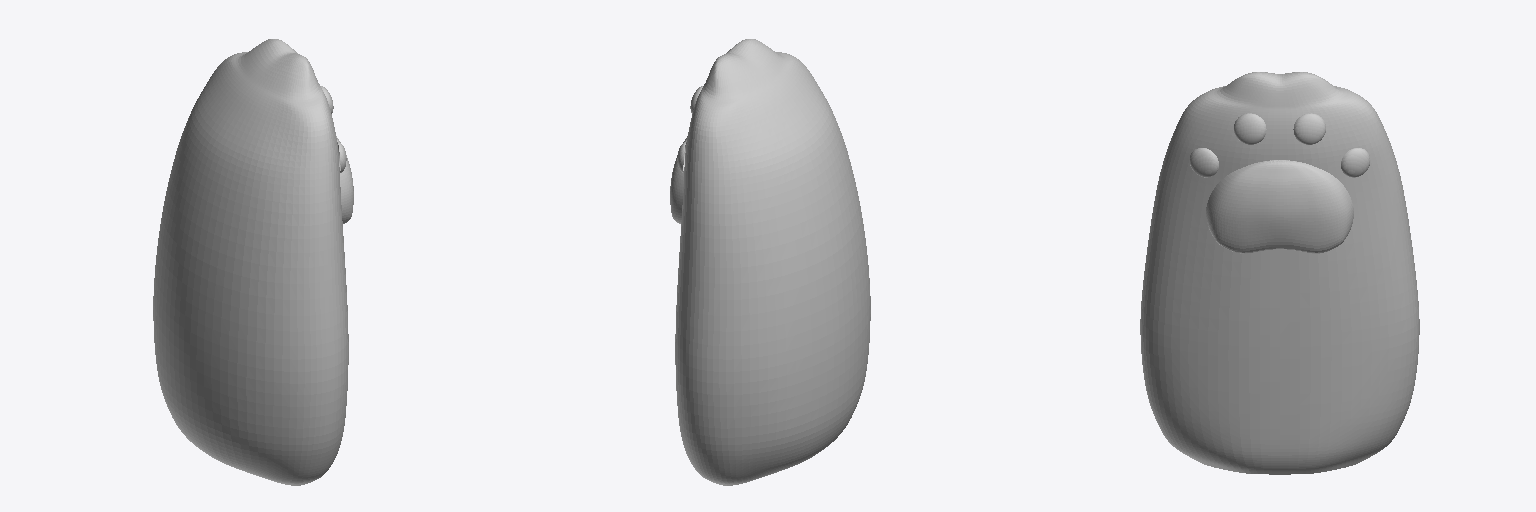
Rendered from Cat_Paw.obj.
3 views of the same model, side by side, from view 1: azimuth 30°, elevation 25°; view 2: azimuth 150°, elevation 25°; view 3: azimuth 270°, elevation 25° (orthographic).
Parts seen in each view (by area): view 1: Paw; view 2: Paw; view 3: Paw.
Boxes of the visible parts, x1,y1,x2,y2 form: Paw: [153, 39, 353, 485]; Paw: [670, 39, 870, 485]; Paw: [1140, 72, 1419, 474].
Size of the model in its own units: 1.75 by 4.3 by 2.74.